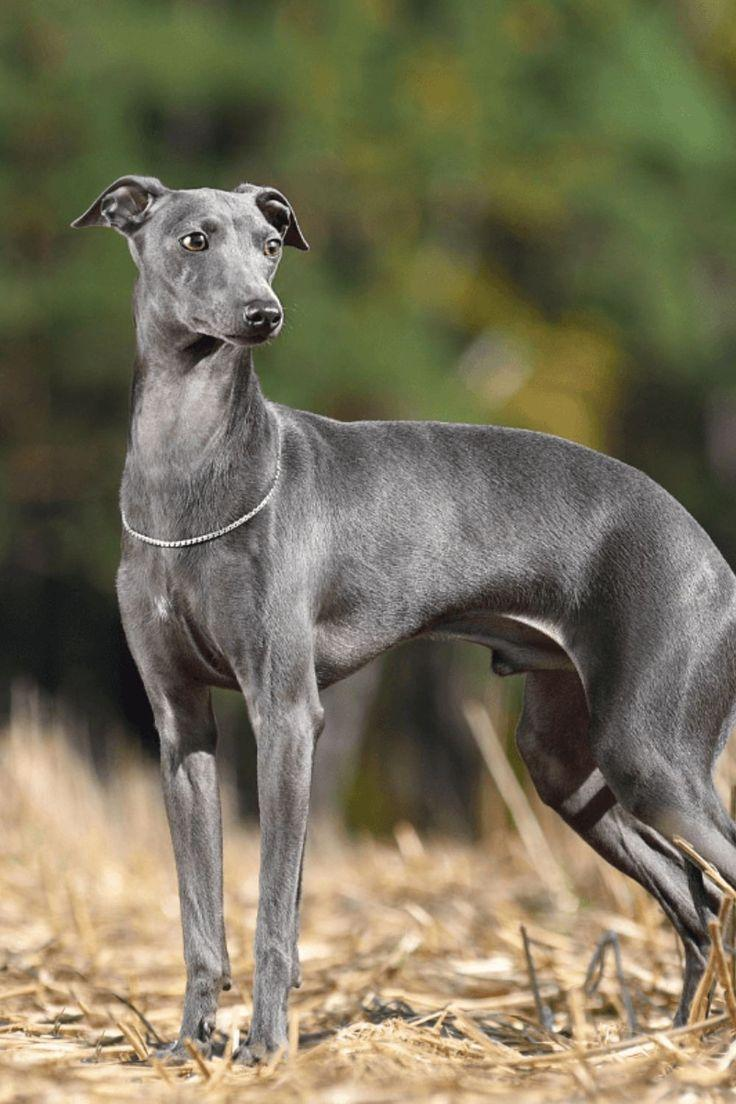dog: (74, 177, 735, 1060)
